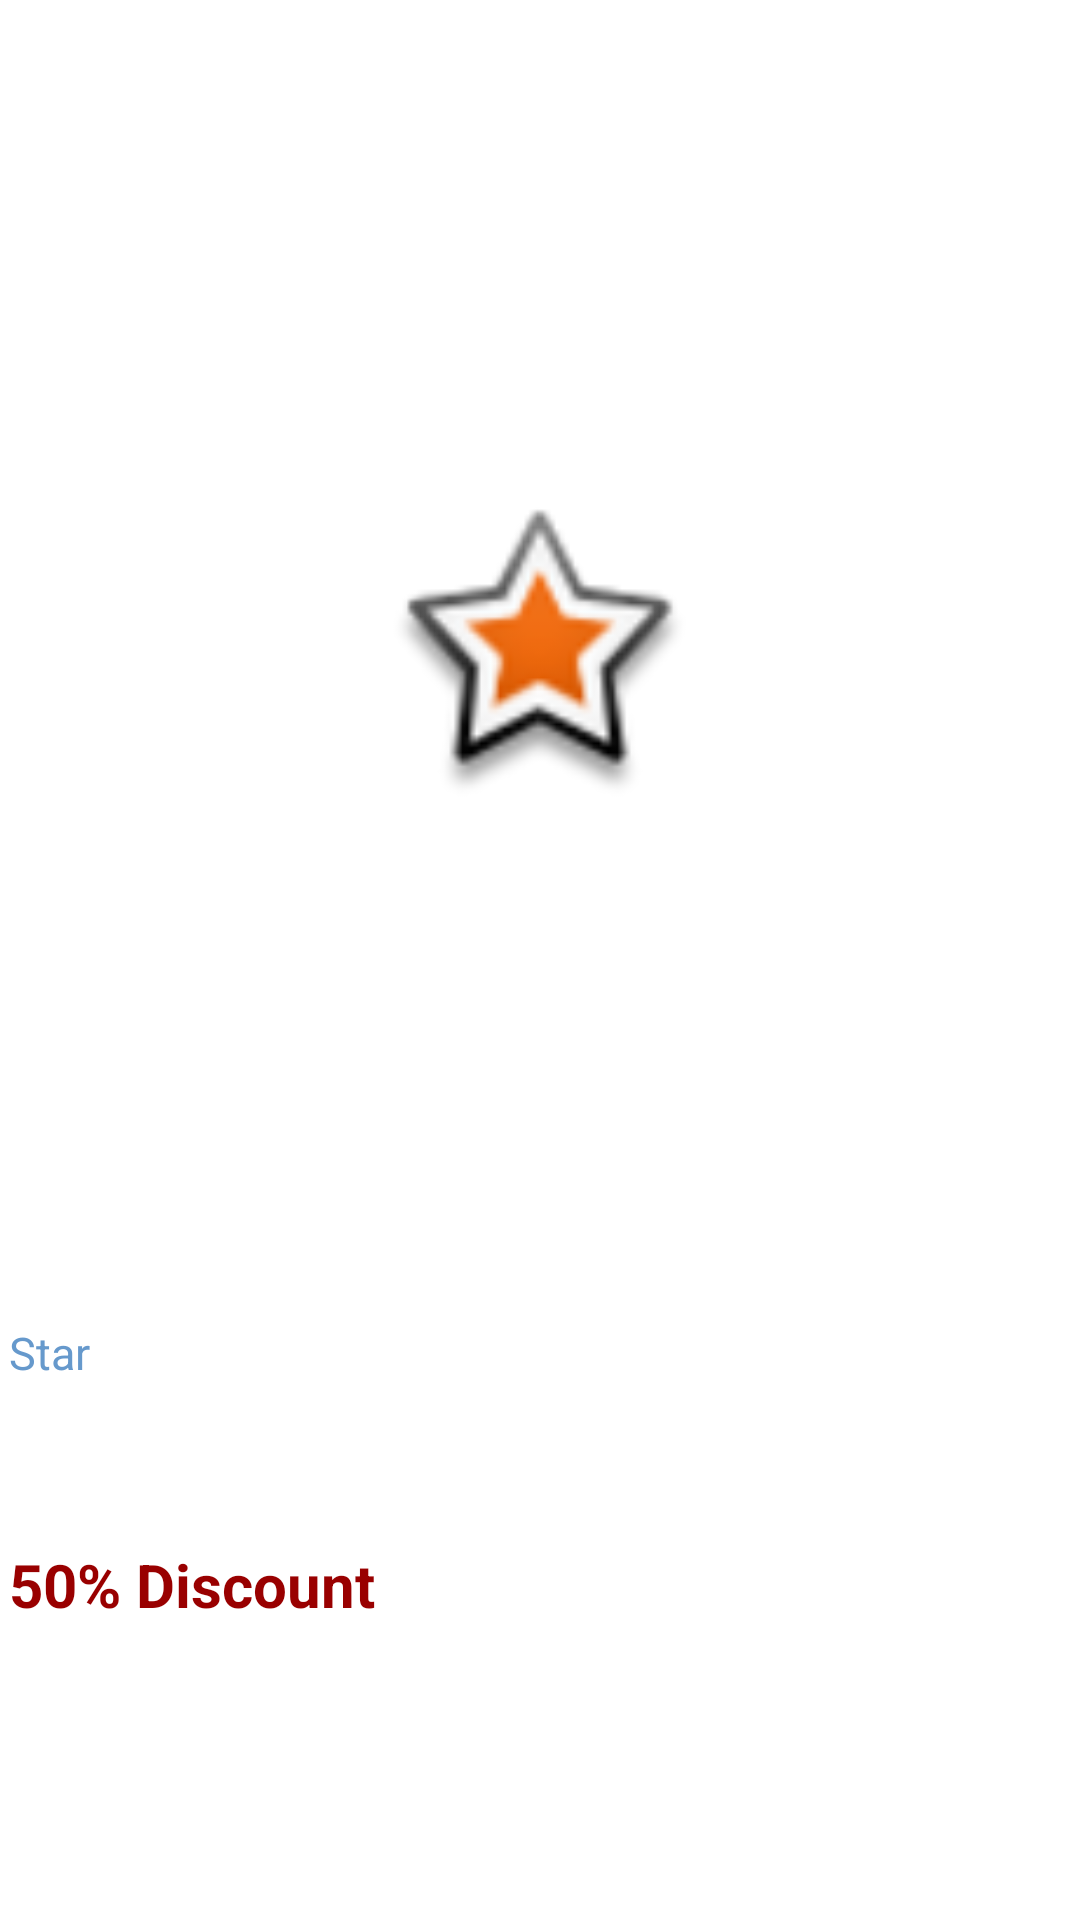

Icons on this 1080w x 1920h Android screen, each with the point to tap as point (x, y):
star on: point (540, 646)
